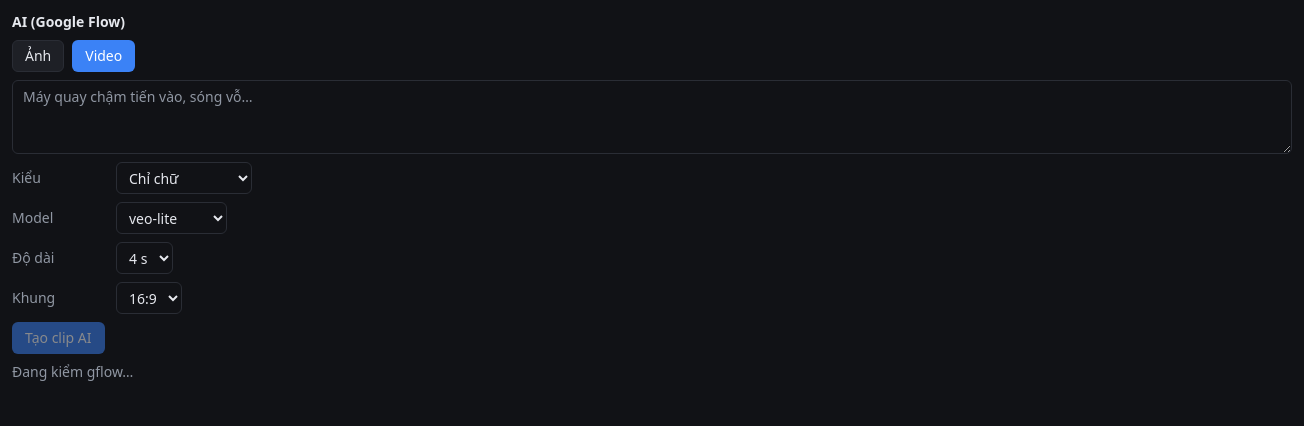
Test case: shot inspector AI clip section › asks for an image when the shot has none
The width and height of the screenshot is (1304, 426).
Select "Ảnh đầu" in the dropdown labelled "Kiểu". click: (184, 178)
box: [116,162,252,194]
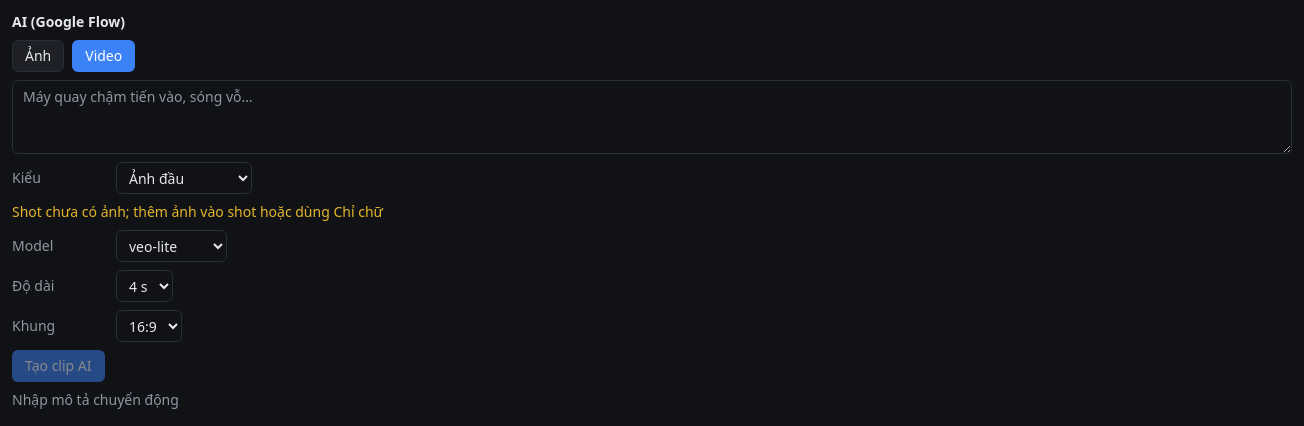
Expected: the text "Shot chưa có ảnh; thêm ảnh vào shot hoặc dùng Chỉ chữ" is shown, [12,202,383,221]
